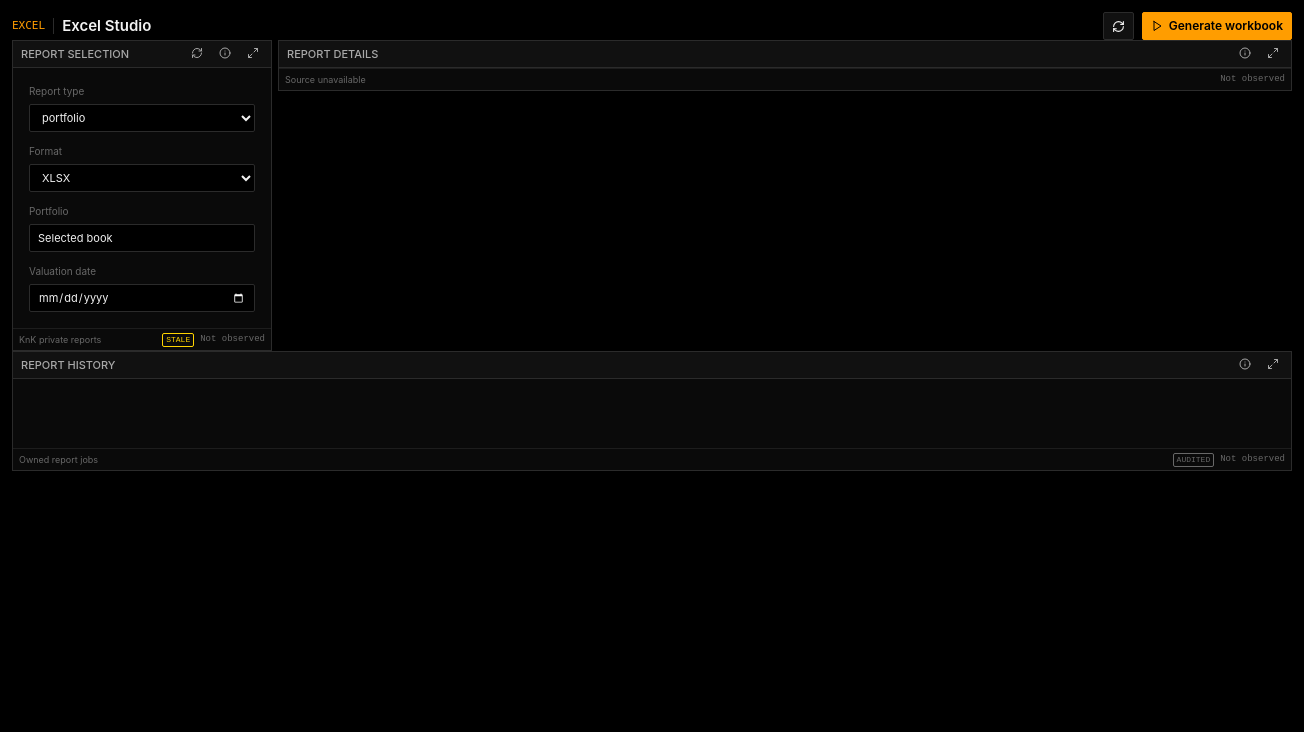
Test: shows queue rejection without inventing a successful download
Click the button "Generate workbook" at (1217, 26), box [1142,12,1292,40]
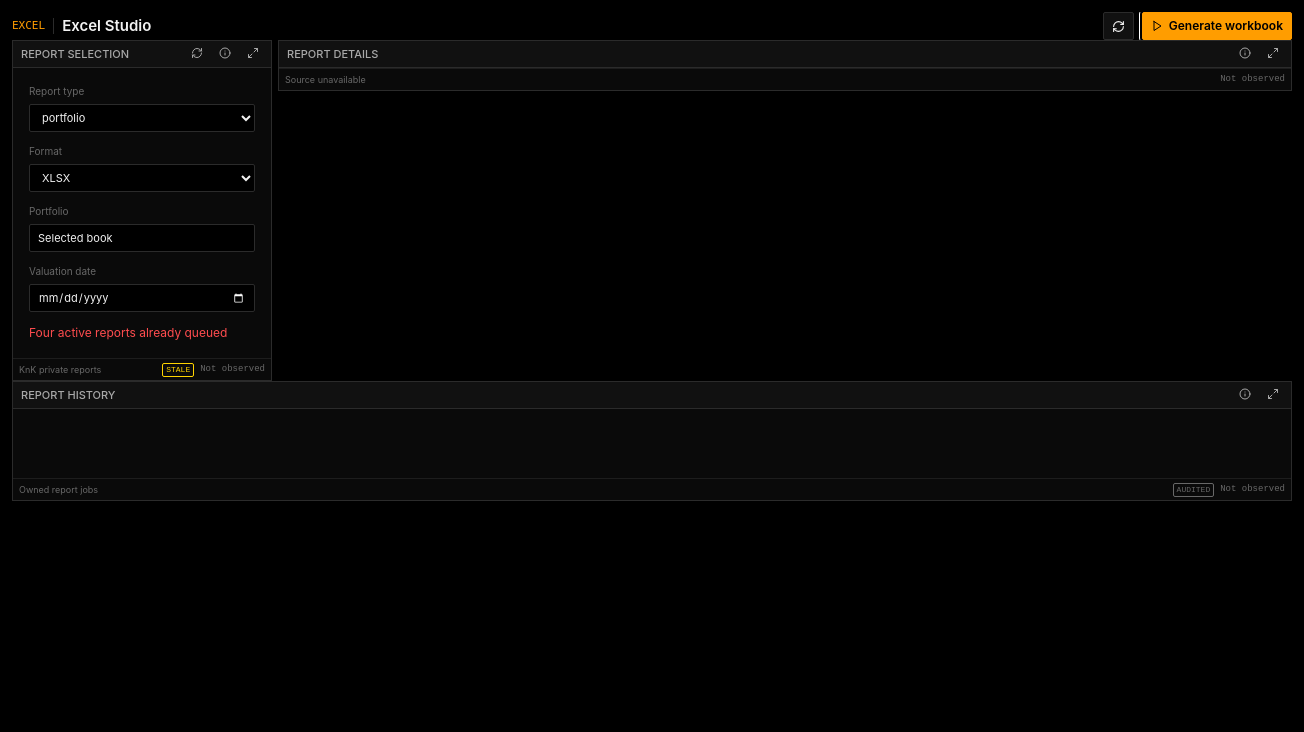
expect the message reads "Four active reports already queued": met, box [29,325,227,340]
